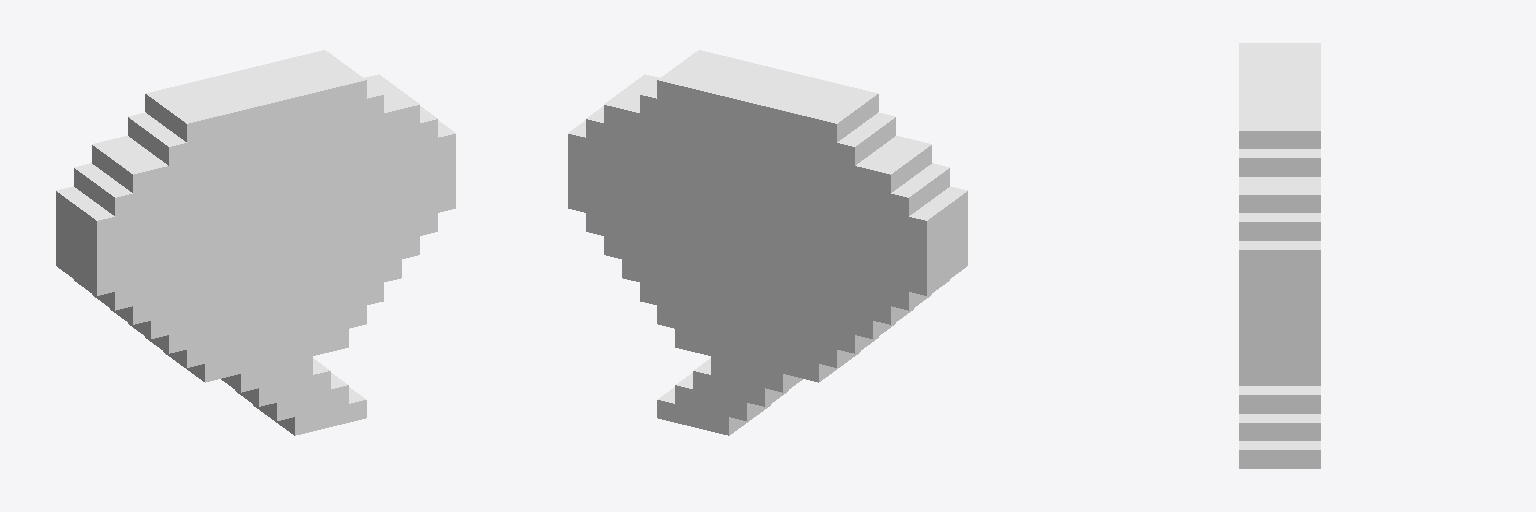
File: idle_action.obj
3 renders of one model, left to right at view 1: azimuth 30°, elevation 25°; view 2: azimuth 150°, elevation 25°; view 3: azimuth 270°, elevation 25°, orthographic.
Visible parts, largest first — view 1: object 1; view 2: object 1; view 3: object 1.
Boxes of the visible parts, x1=… form: object 1: x1=56, y1=50, x2=455, y2=435; object 1: x1=568, y1=50, x2=967, y2=435; object 1: x1=1239, y1=43, x2=1320, y2=468.
Size of the model in its own units: 2 by 1.8 by 0.4.